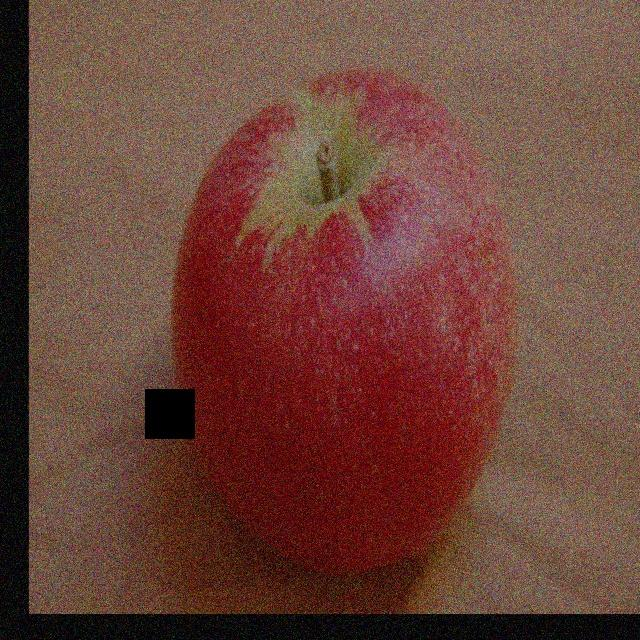red apple: (168, 58, 522, 576)
